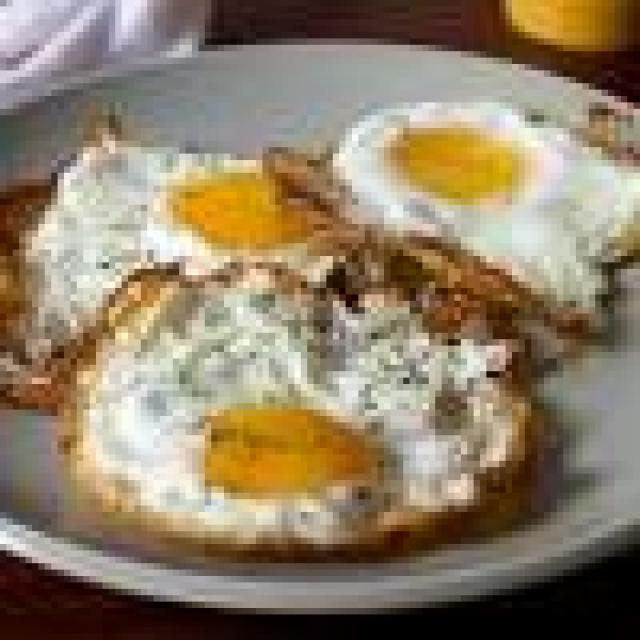Egg: (52, 269, 545, 558), (31, 148, 354, 342), (342, 105, 610, 296)
